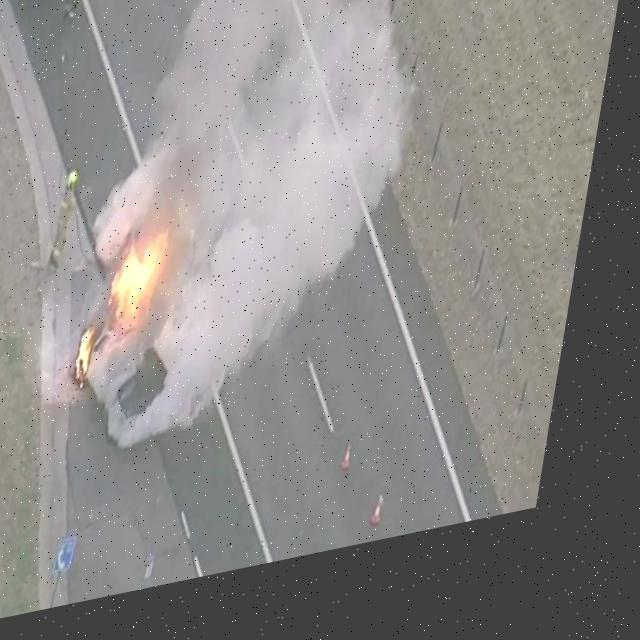Fire: (78, 227, 182, 402)
